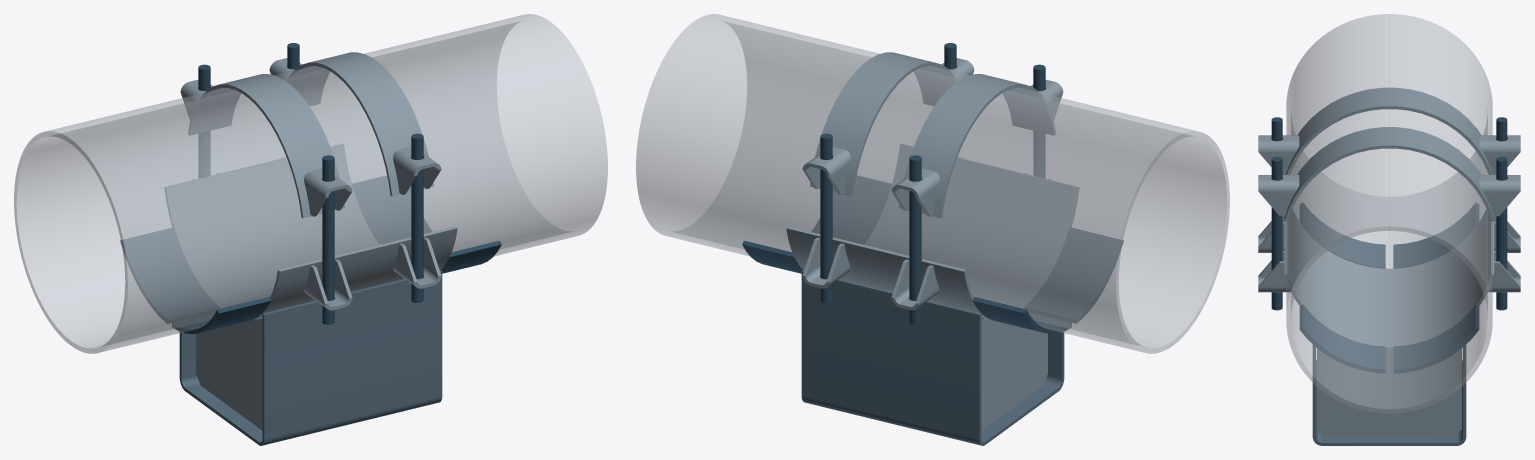
Rendered from TS-671.00.00-02-opora-dn377-H200.glb.
3 views of the same model, side by side, from view 1: azimuth 30°, elevation 25°; view 2: azimuth 150°, elevation 25°; view 3: azimuth 270°, elevation 25° (orthographic). The views are drawn at different scales.
Visible parts, largest first — view 1: truba, skoba_1, podushka_0, bugel_podushka_-1_0, bugel_podushka_1_0, rebro_2, upor_-1_1, upor_1_1, shpilka_-1_-1, shpilka_1_-1, upor_-1_-1, bugel_ushko_-1_2 (+5 smaller); view 2: truba, skoba_1, podushka_0, bugel_podushka_-1_0, bugel_podushka_1_0, rebro_2, upor_-1_-1, upor_1_-1, shpilka_-1_1, shpilka_1_1, upor_-1_1, bugel_ushko_-1_1 (+5 smaller); view 3: truba, podushka_0, rebro_4, bugel_podushka_1_0, bugel_podushka_-1_0, upor_1_1, upor_1_-1, skoba_1, upor_-1_1, upor_-1_-1, bugel_ushko_1_1, bugel_ushko_1_2 (+10 smaller).
Part boxes in pixels (x1,y1,x2,y2): truba: (14,14,607,353); skoba_1: (179,270,442,445); podushka_0: (164,144,457,319); bugel_podushka_-1_0: (188,74,344,218); bugel_podushka_1_0: (286,52,433,196); rebro_2: (196,318,262,430); upor_-1_1: (120,227,219,323); upor_1_1: (352,175,432,244); shpilka_-1_-1: (322,155,334,324); shpilka_1_-1: (411,133,423,302); upor_-1_-1: (172,297,271,334); bugel_ushko_-1_2: (304,168,352,216); truba: (636,14,1229,353); skoba_1: (801,270,1064,445); podushka_0: (786,144,1079,319); bugel_podushka_-1_0: (899,74,1055,218); bugel_podushka_1_0: (810,52,957,196); rebro_2: (981,318,1047,430); upor_-1_-1: (1024,227,1123,323); upor_1_-1: (811,175,891,244); shpilka_-1_1: (909,155,921,324); shpilka_1_1: (820,133,832,302); upor_-1_1: (972,297,1071,334); bugel_ushko_-1_1: (891,168,939,216); truba: (1286,14,1492,413); podushka_0: (1284,209,1494,350); rebro_4: (1317,348,1461,436); bugel_podushka_1_0: (1284,127,1494,221); bugel_podushka_-1_0: (1286,87,1492,174); upor_1_1: (1393,304,1479,373); upor_1_-1: (1299,304,1385,373); skoba_1: (1312,345,1466,445); upor_-1_1: (1393,203,1478,268); upor_-1_-1: (1300,203,1385,268); bugel_ushko_1_1: (1479,175,1520,216); bugel_ushko_1_2: (1258,175,1299,216).
Bounding box in the file's own units: 917 × 584 × 479.
